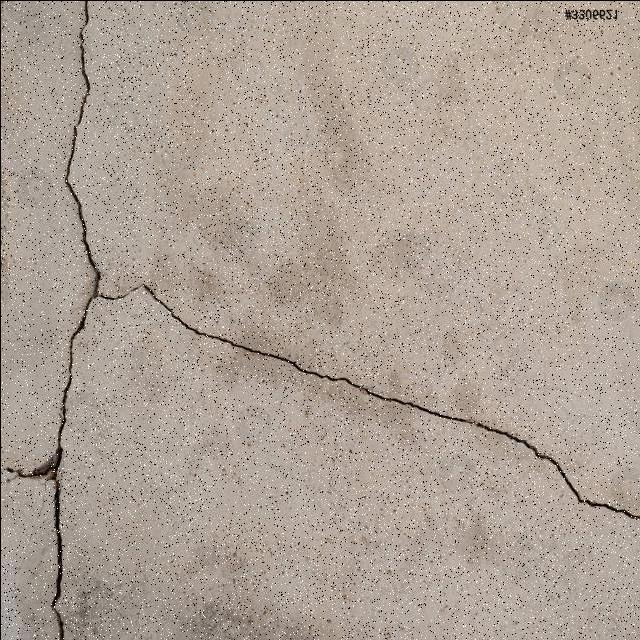crack: (139, 282, 638, 521), (11, 11, 110, 633), (196, 223, 346, 325), (65, 3, 100, 288), (88, 227, 173, 301)
